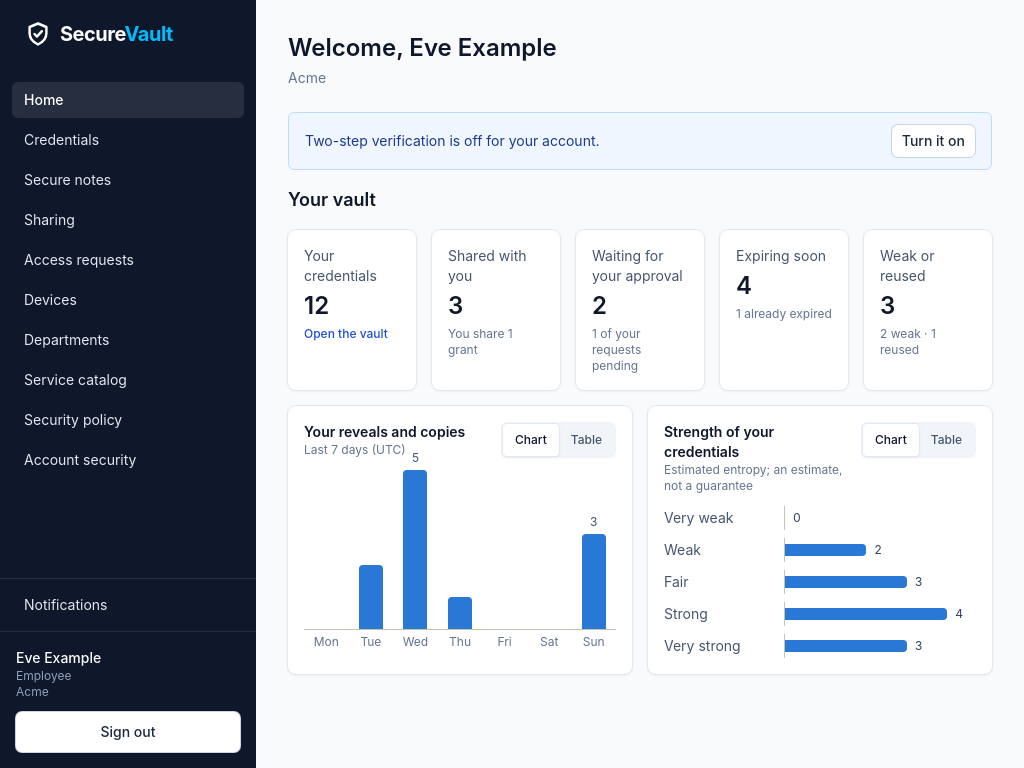
Test: dashboard › labels every chart mark and offers the same data as a table
Check: the button named ": 5 reveals and copies" is shown, box left=393, top=470, right=438, bottom=629
Check: the button named "Strong: 4 credentials" is shown, box left=784, top=602, right=976, bottom=626
Click the button "Table" in the row of "Your reveals and copies" at (586, 440), box left=559, top=424, right=614, bottom=456
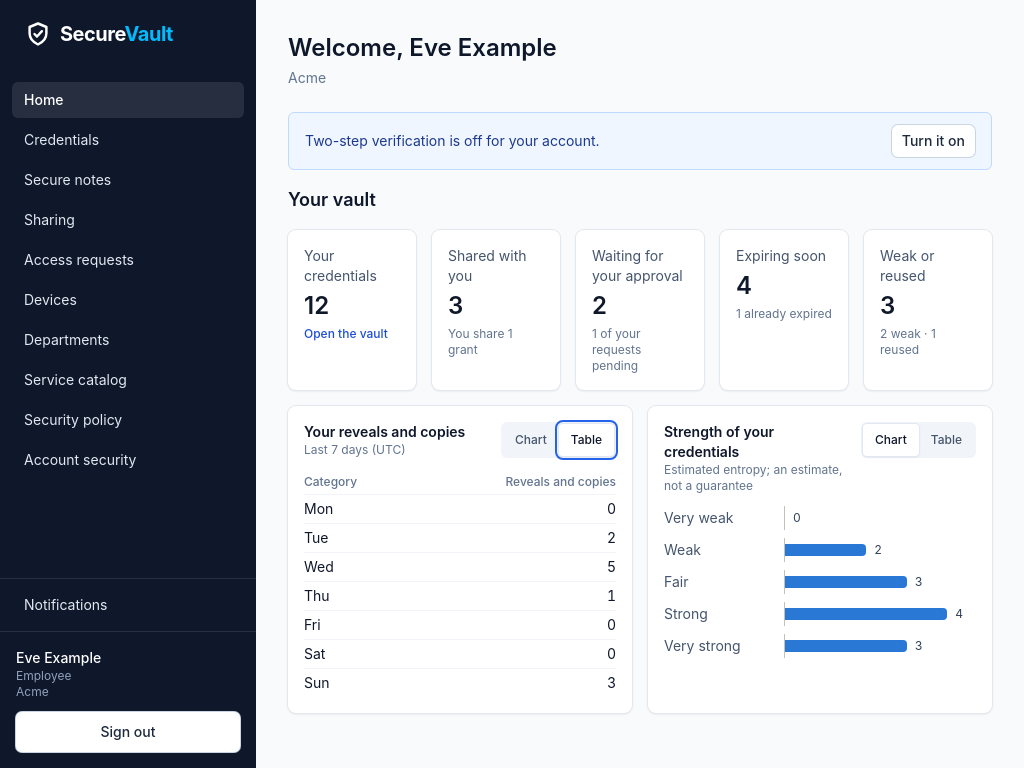
Check: the number of rows is 8
Click the button "Chart" next to "Your reveals and copies" at (531, 440), box left=503, top=424, right=559, bottom=456
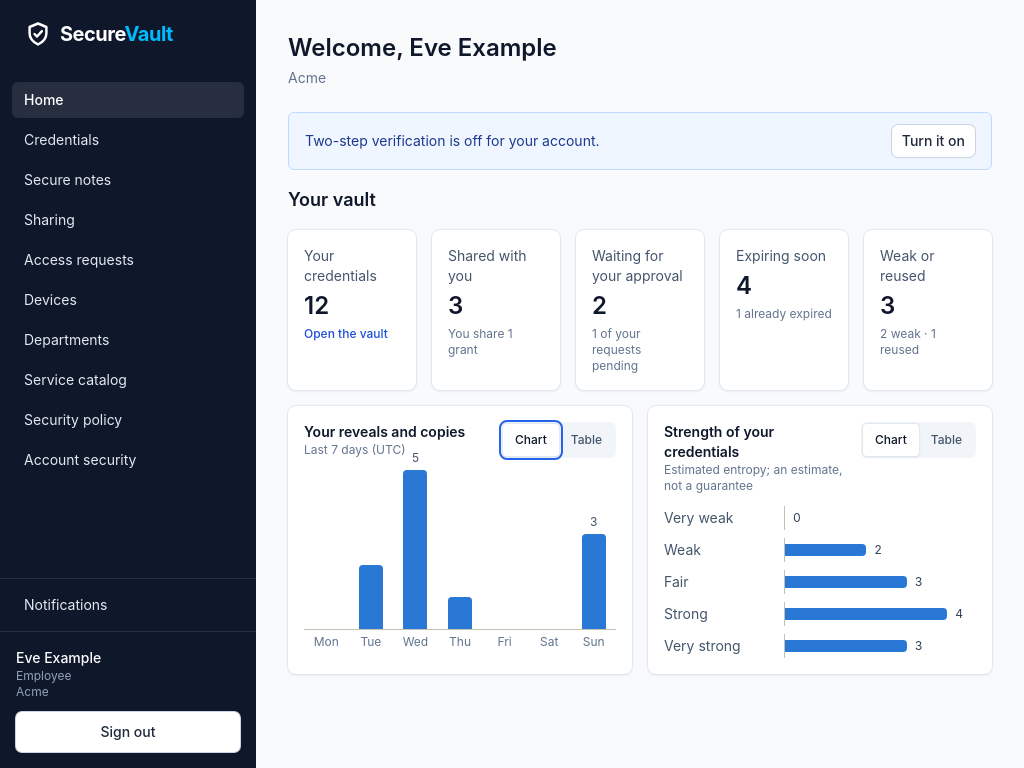
Check: the table is gone
